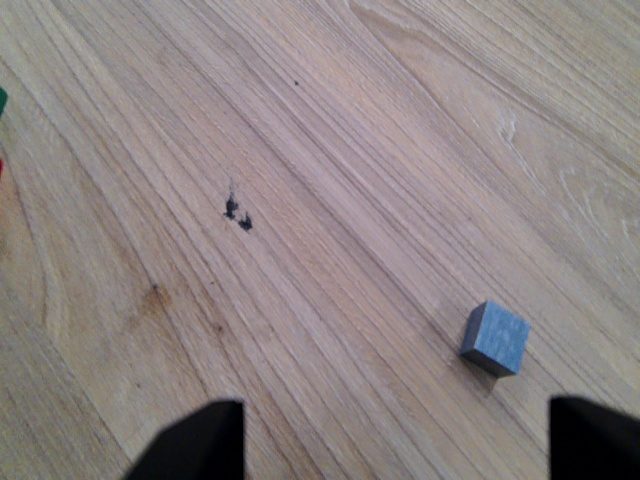stone: (461, 299, 531, 381)
